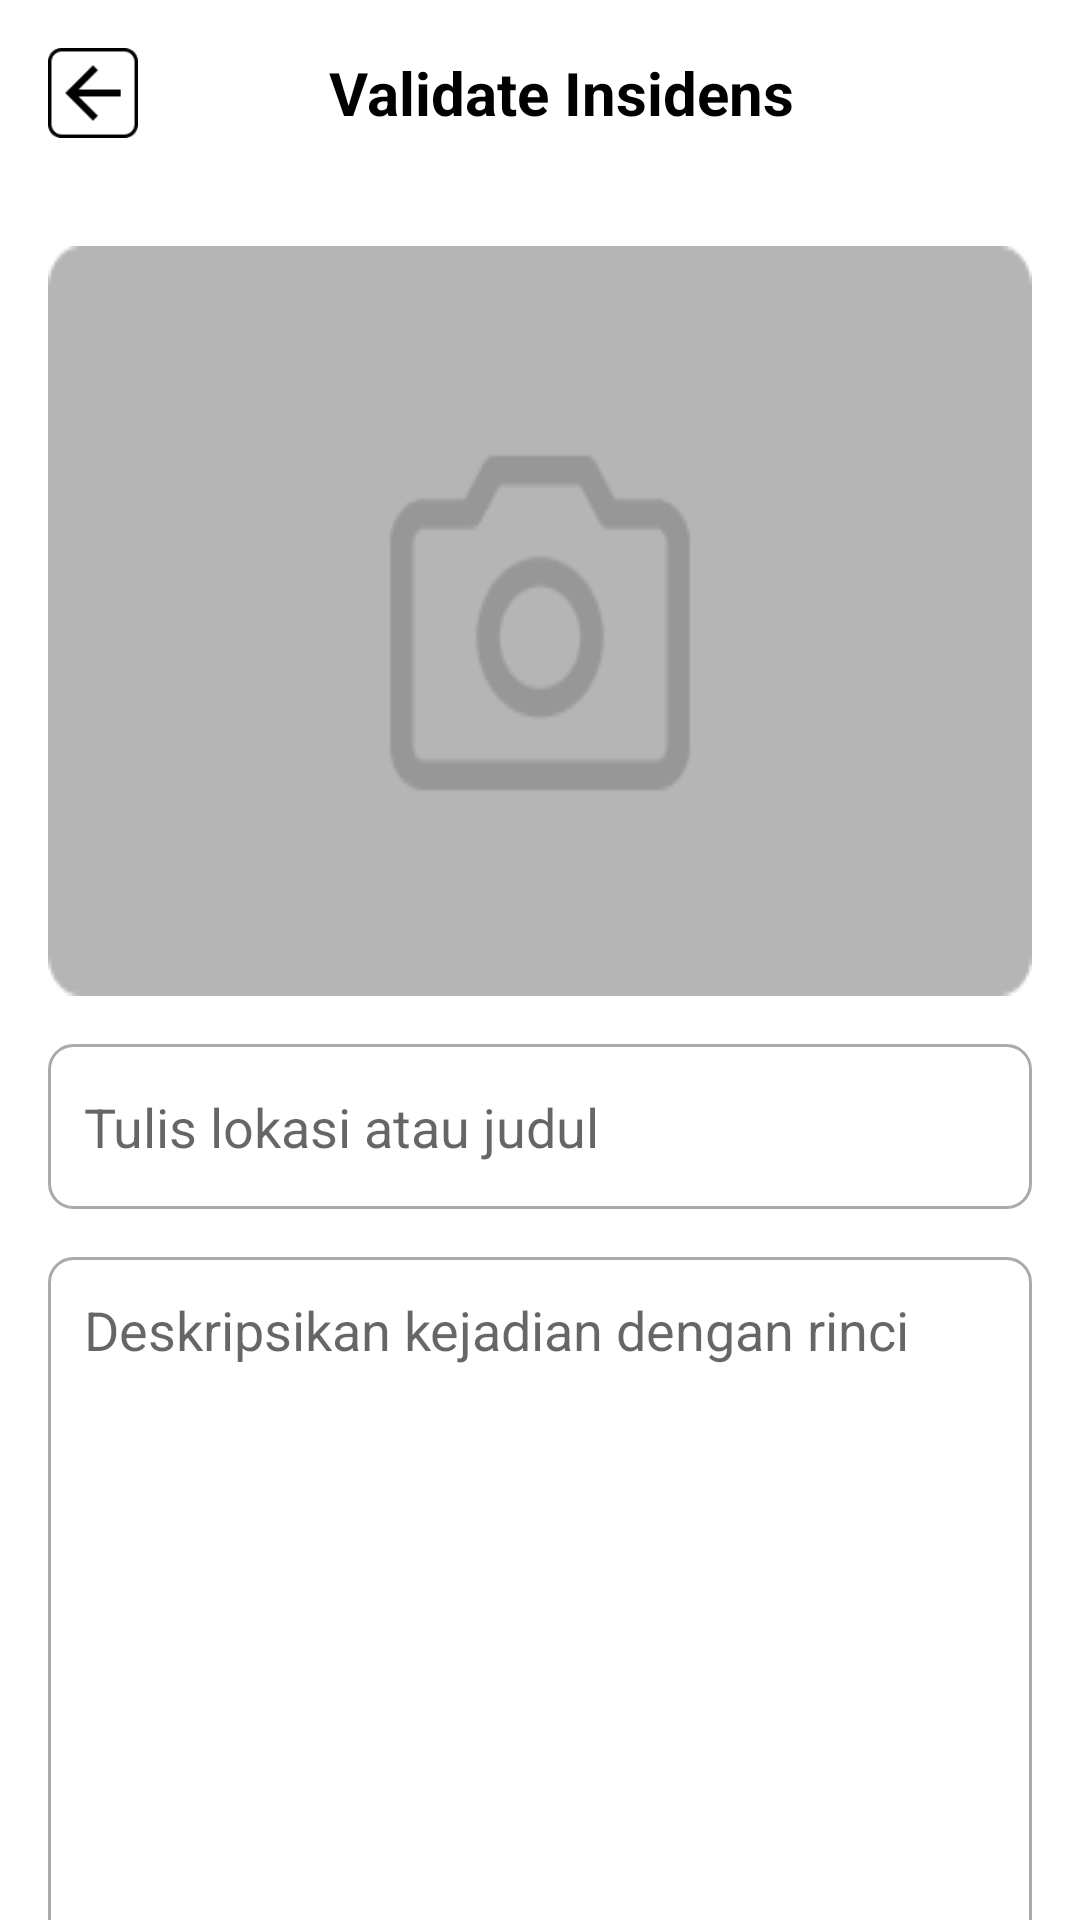

Icons on this 1080*1920 Android screen, each with its box as (x1, y1, x2, y2):
Back: (48, 48, 138, 138)
